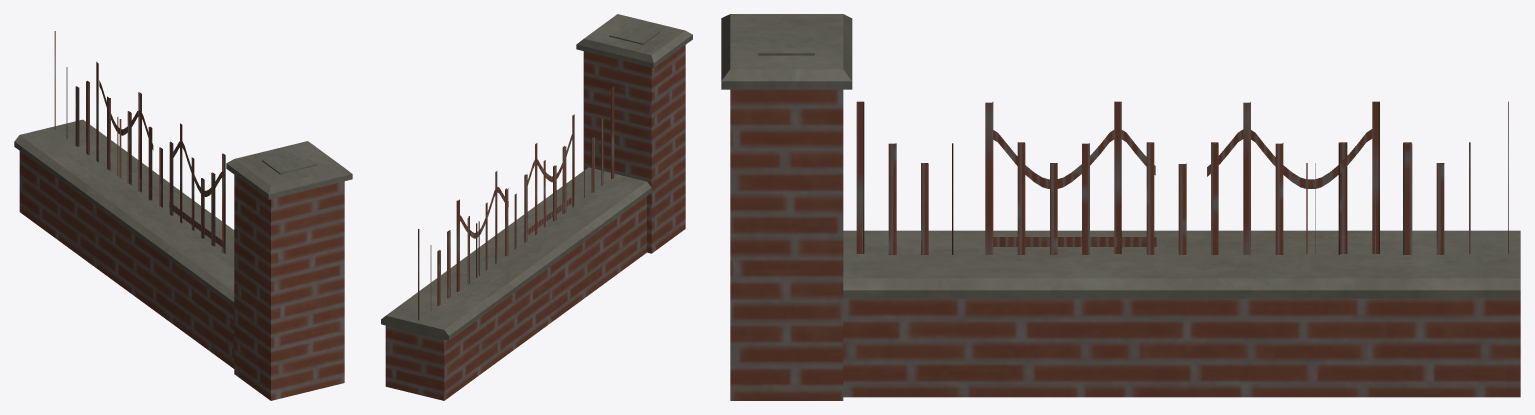
The model's file is Paredes.obj.
3 renders of one model, left to right at view 1: azimuth 30°, elevation 25°; view 2: azimuth 150°, elevation 25°; view 3: azimuth 270°, elevation 25°, orthographic. The views are drawn at different scales.
Visible parts, largest first — view 1: Cube_001; view 2: Cube_001; view 3: Cube_001.
Boxes of the visible parts, bbox=[...] form: Cube_001: bbox=[14, 31, 352, 400]; Cube_001: bbox=[381, 14, 692, 400]; Cube_001: bbox=[721, 14, 1520, 400].
Size of the model in its own units: 25.98 by 64.21 by 139.
